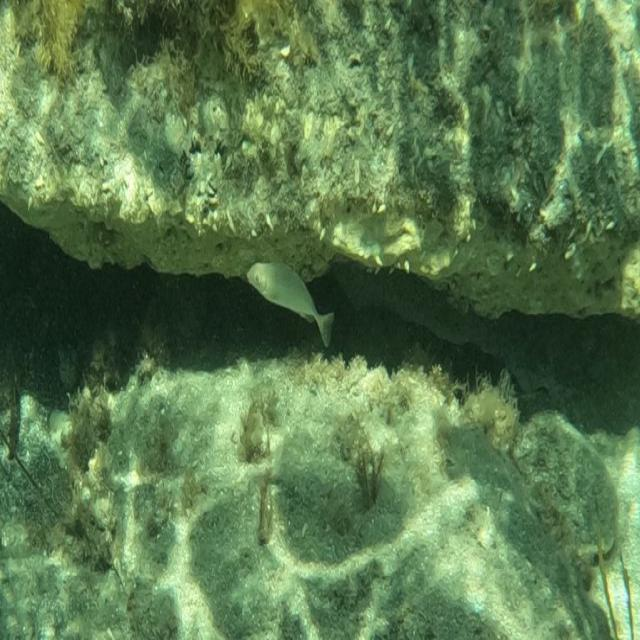Sokar Baligi: (244, 246, 339, 355)
